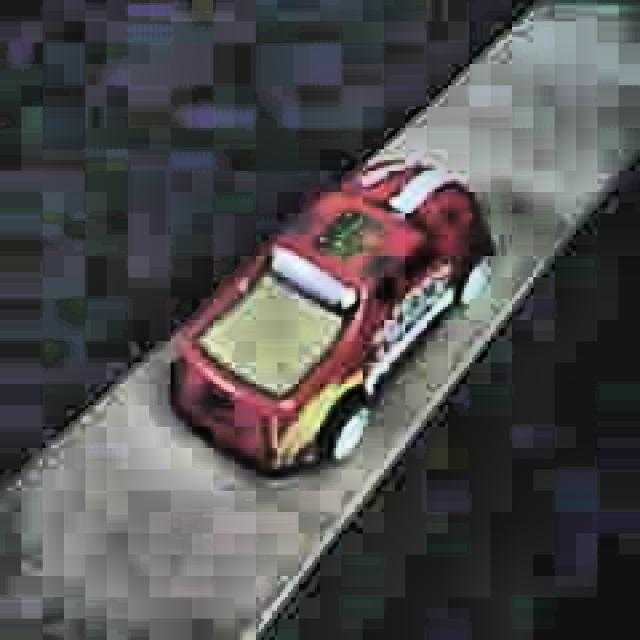car: (166, 150, 499, 481)
